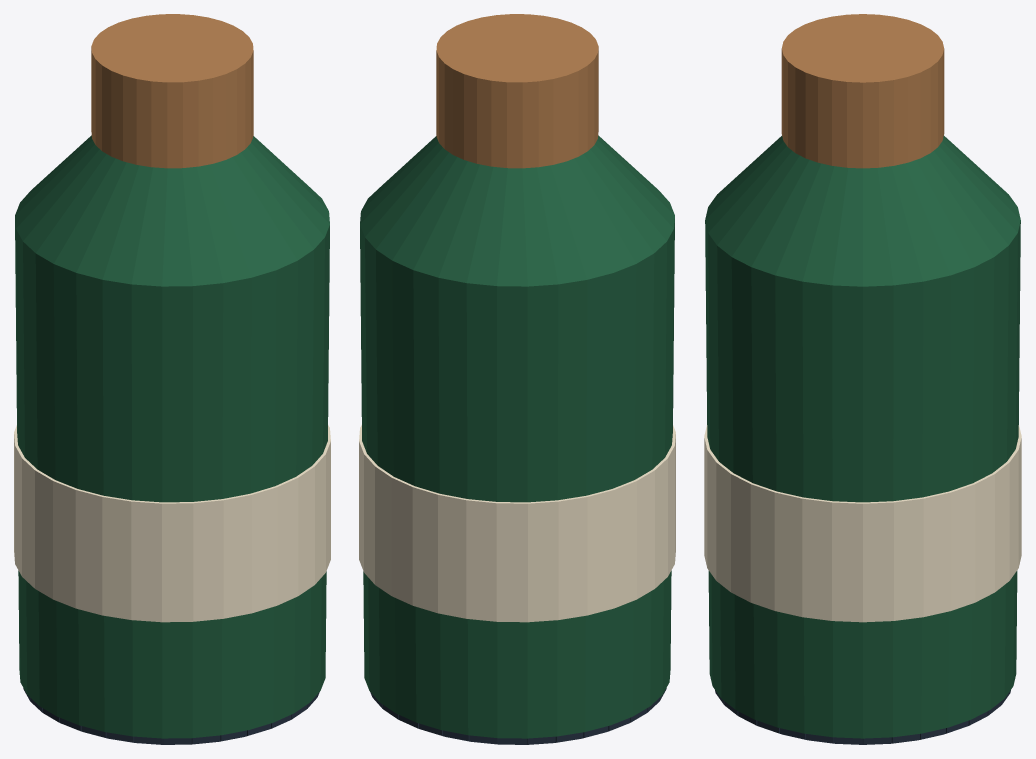
File: bottle.glb
3 views of the same model, side by side, from view 1: azimuth 30°, elevation 25°; view 2: azimuth 150°, elevation 25°; view 3: azimuth 270°, elevation 25° (orthographic).
Visible parts, largest first — view 1: bottle body, grip band, shoulder, bottle cap; view 2: bottle body, grip band, shoulder, bottle cap; view 3: bottle body, grip band, shoulder, bottle cap.
Part boxes in pixels (x1,y1,x2,y2): bottle body: (15, 219, 329, 738); grip band: (14, 425, 330, 622); shoulder: (15, 135, 329, 286); bottle cap: (91, 14, 253, 168); bottle body: (360, 219, 674, 738); grip band: (359, 425, 675, 622); shoulder: (360, 135, 674, 286); bottle cap: (436, 14, 598, 168); bottle body: (705, 220, 1020, 738); grip band: (704, 425, 1021, 622); shoulder: (705, 136, 1020, 286); bottle cap: (781, 14, 944, 168).
Bounding box in the file's own units: 0.704 × 1.55 × 0.704.
